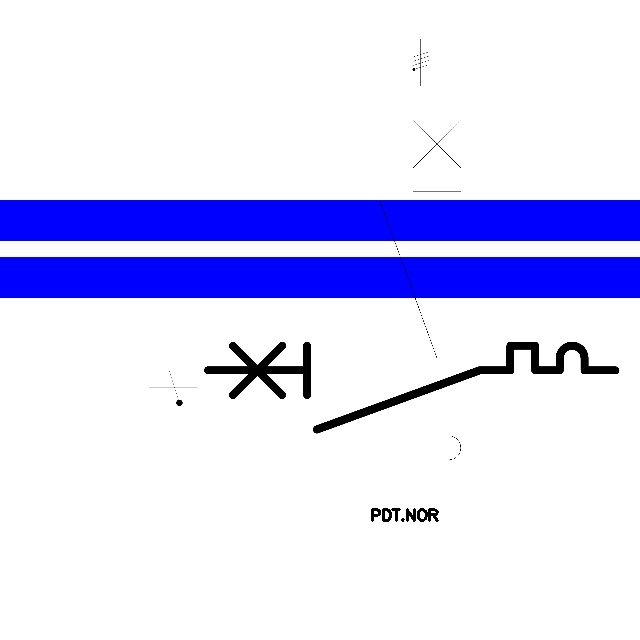interruptor_termomagnetico: (197, 335, 626, 440), (370, 85, 471, 499)
